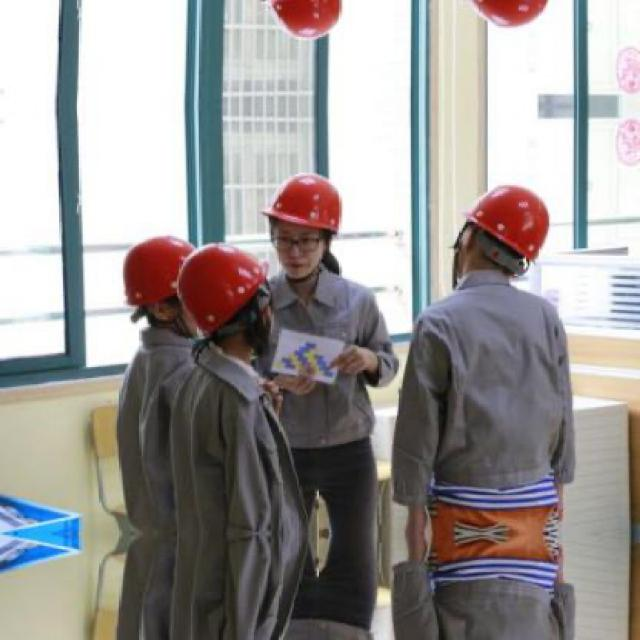helmet: (152, 235, 274, 356), (443, 174, 557, 296), (257, 162, 348, 281), (106, 233, 197, 339), (257, 0, 350, 52), (441, 0, 557, 40)
